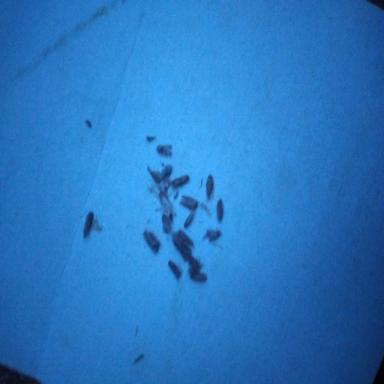pbw: (171, 233, 191, 260), (143, 231, 160, 254), (158, 192, 174, 212), (83, 212, 94, 240), (178, 230, 195, 248), (172, 175, 189, 189), (180, 195, 198, 208), (168, 260, 180, 278), (160, 164, 172, 182), (190, 272, 208, 283), (184, 211, 195, 228), (206, 174, 213, 199), (217, 198, 223, 222)
